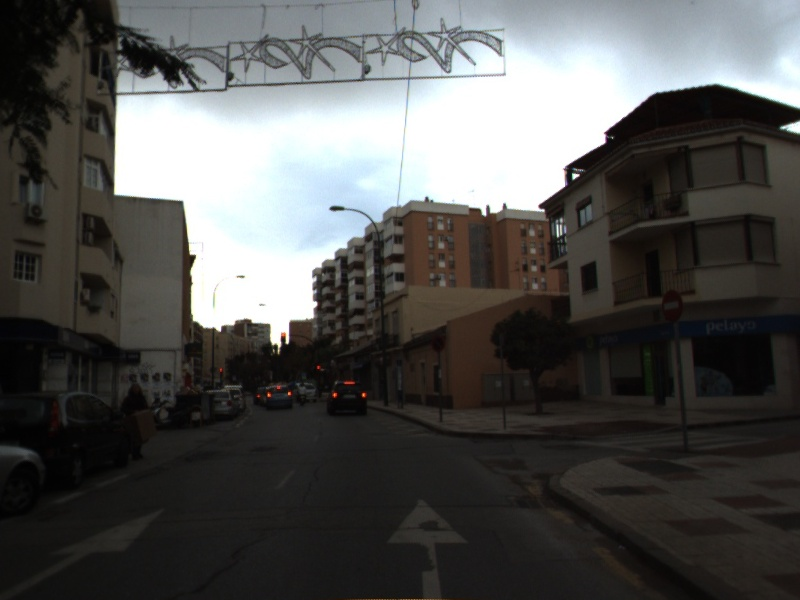STRAIGHT: (1, 502, 172, 600), (383, 495, 474, 600)
